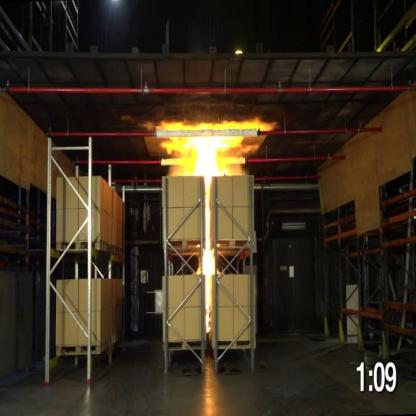fire: (137, 120, 267, 175), (198, 179, 218, 341)
